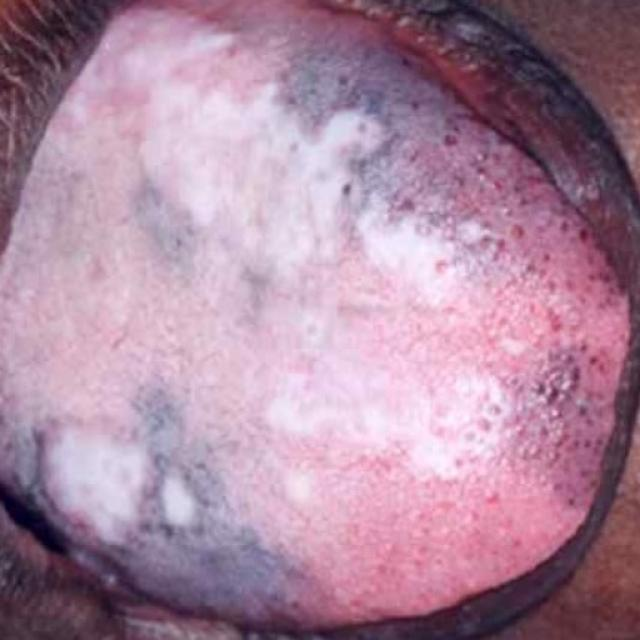cancer-detection: (98, 0, 514, 312), (4, 376, 328, 626)
processing_area: (1, 1, 638, 626)
